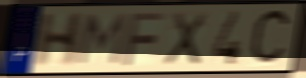4: (210, 9, 241, 67)
C: (247, 6, 294, 70)
F: (121, 11, 168, 68)
H: (33, 11, 86, 69)
M: (75, 11, 129, 67)
X: (161, 11, 209, 68)
